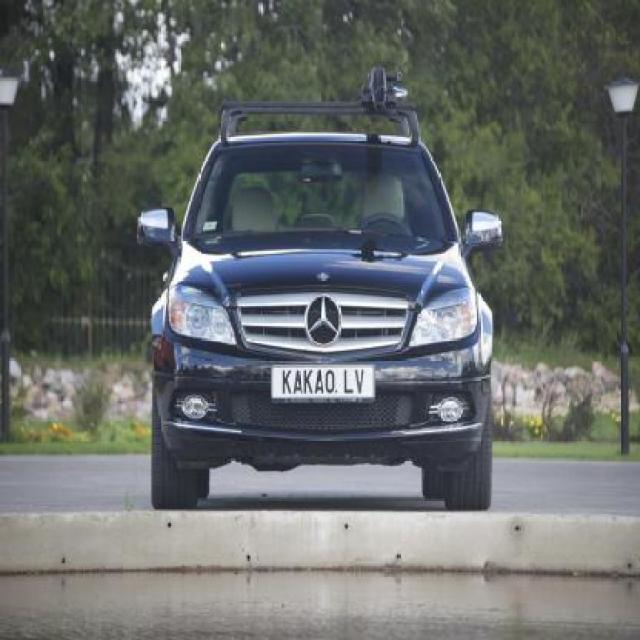License-Plates: (268, 349, 381, 407)
